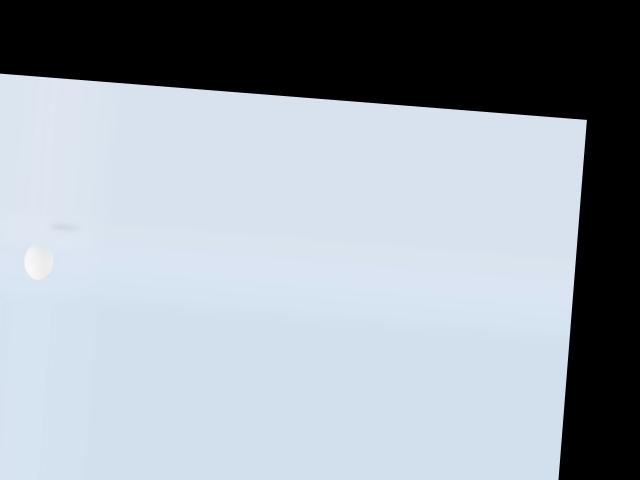egg: (22, 242, 54, 280)
